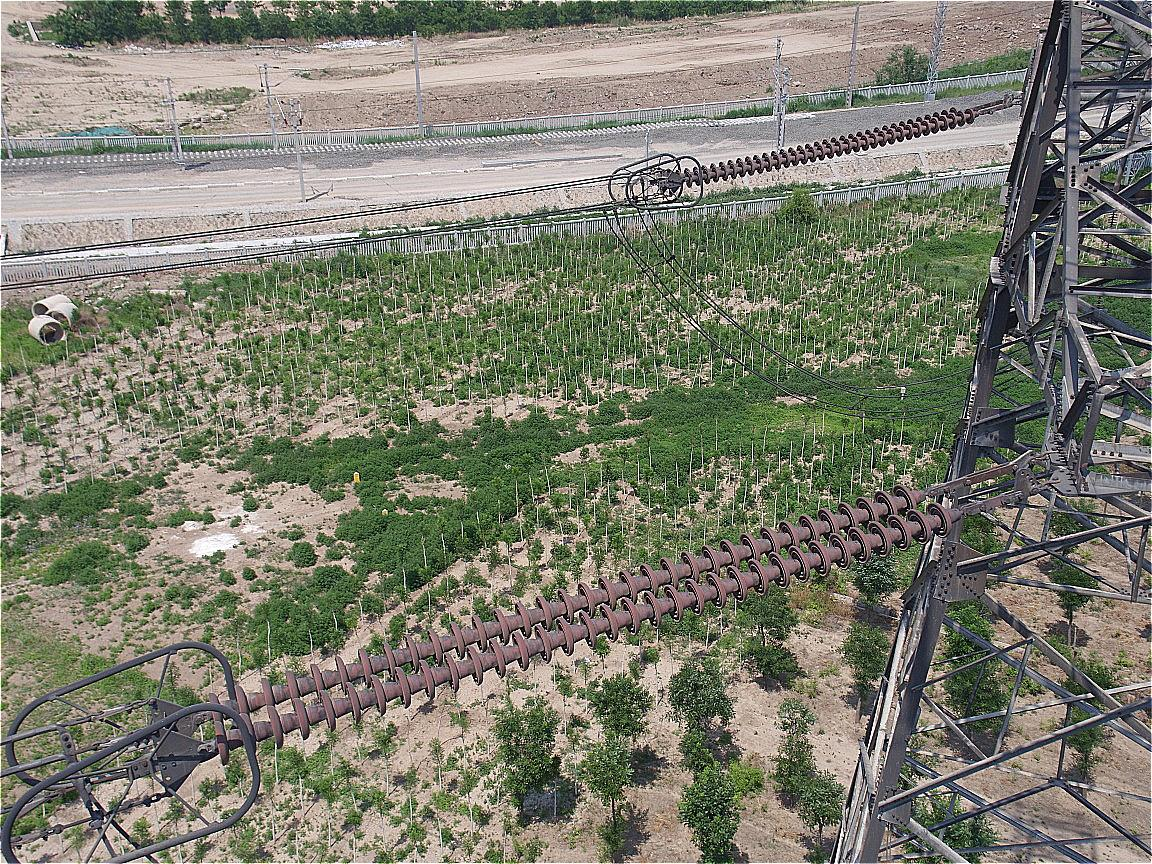insultor1: (211, 484, 950, 760), (686, 104, 976, 189)
